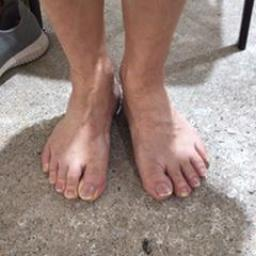Front View -Both Feet-: (36, 29, 214, 216)
